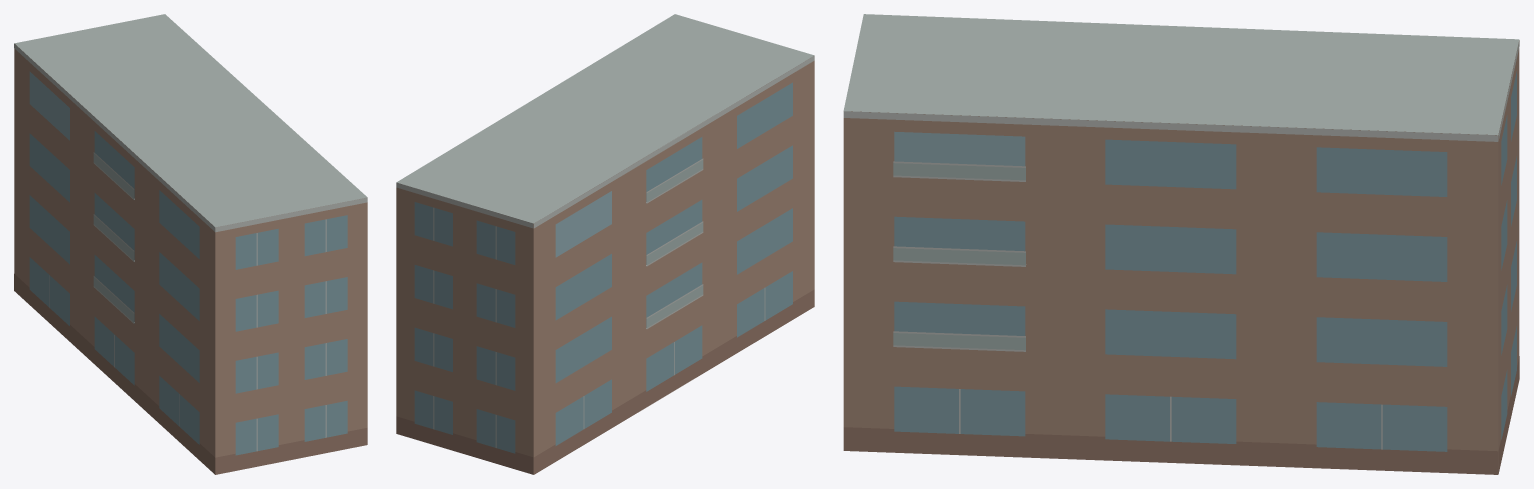
The model's file is survey-upis-32585034.glb.
3 renders of one model, left to right at view 1: azimuth 30°, elevation 25°; view 2: azimuth 150°, elevation 25°; view 3: azimuth 270°, elevation 25°, orthographic. The views are drawn at different scales.
Parts seen in each view (by area): view 1: survey-upis-32585034.tmp; view 2: survey-upis-32585034.tmp; view 3: survey-upis-32585034.tmp.
Boxes of the visible parts, x1=… form: survey-upis-32585034.tmp: x1=14, y1=14, x2=367, y2=474; survey-upis-32585034.tmp: x1=396, y1=14, x2=814, y2=474; survey-upis-32585034.tmp: x1=843, y1=14, x2=1519, y2=474.
Bounding box in the file's own units: 9.34 × 12.2 × 22.01.
